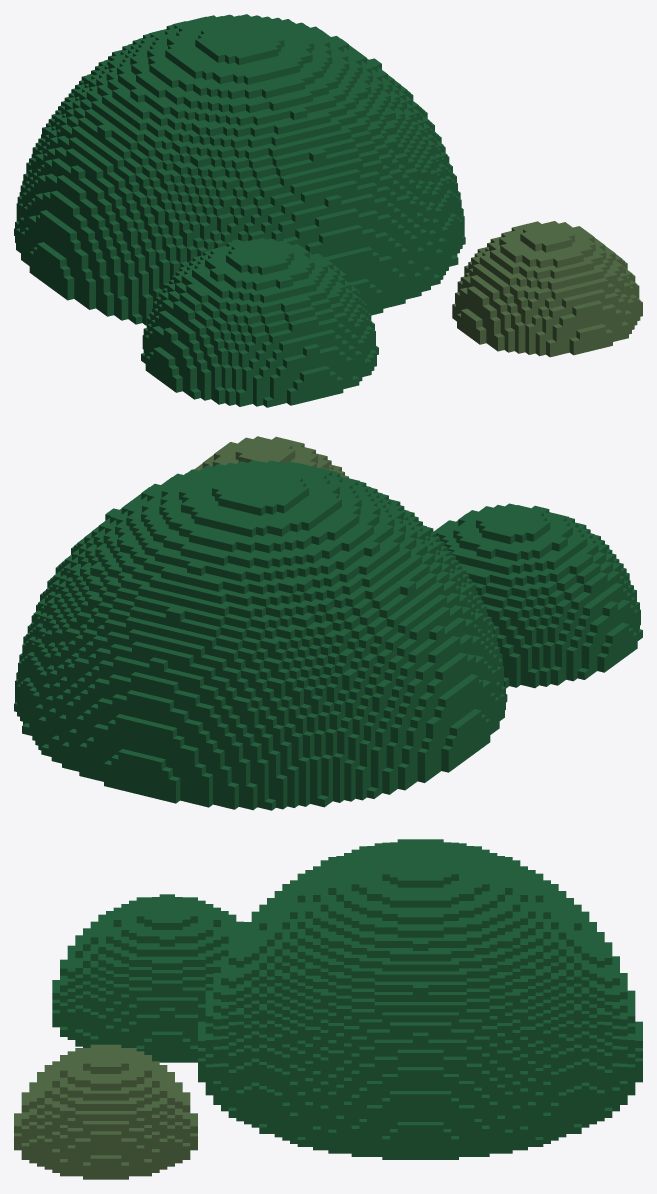
Rendered from temple-bush-B.glb.
3 views of the same model, one above another, from view 1: azimuth 30°, elevation 25°; view 2: azimuth 150°, elevation 25°; view 3: azimuth 270°, elevation 25° (orthographic). The views are drawn at different scales.
Visible parts, largest first — view 1: Polygon; view 2: Polygon; view 3: Polygon.
Boxes of the visible parts, bbox=[...] form: Polygon: bbox=[14, 14, 642, 407]; Polygon: bbox=[14, 436, 642, 810]; Polygon: bbox=[14, 839, 642, 1179].
Size of the model in its own units: 6.6 by 2.9 by 8.2.
1 material, 1 textured.
